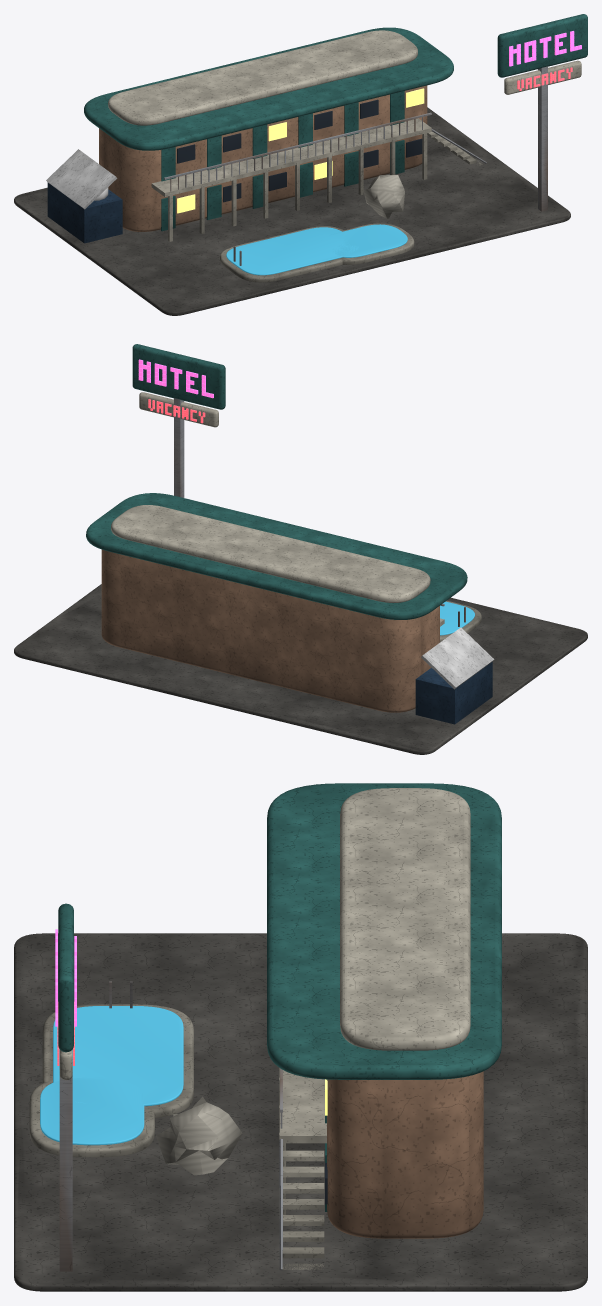
The model's file is motel.glb.
3 renders of one model, top to bottom at view 1: azimuth 30°, elevation 25°; view 2: azimuth 150°, elevation 25°; view 3: azimuth 270°, elevation 25°, orthographic. The views are drawn at different scales.
Parts seen in each view (by area): view 1: motel, dumpster_331, crumpled_paper_339, group_91, group_139; view 2: motel, dumpster_331, group_211; view 3: motel, crumpled_paper_339.
Boxes of the visible parts, bbox=[...] form: motel: bbox=[14, 14, 587, 315]; dumpster_331: bbox=[46, 149, 122, 243]; crumpled_paper_339: bbox=[363, 175, 404, 218]; group_91: bbox=[509, 31, 581, 66]; group_139: bbox=[517, 67, 572, 90]; motel: bbox=[14, 344, 587, 754]; dumpster_331: bbox=[415, 627, 494, 724]; group_211: bbox=[138, 359, 213, 398]; motel: bbox=[14, 783, 587, 1291]; crumpled_paper_339: bbox=[156, 1096, 242, 1175].
Size of the model in its own units: 34 by 14.44 by 22.
Materials: 15 (11 with a texture image).
